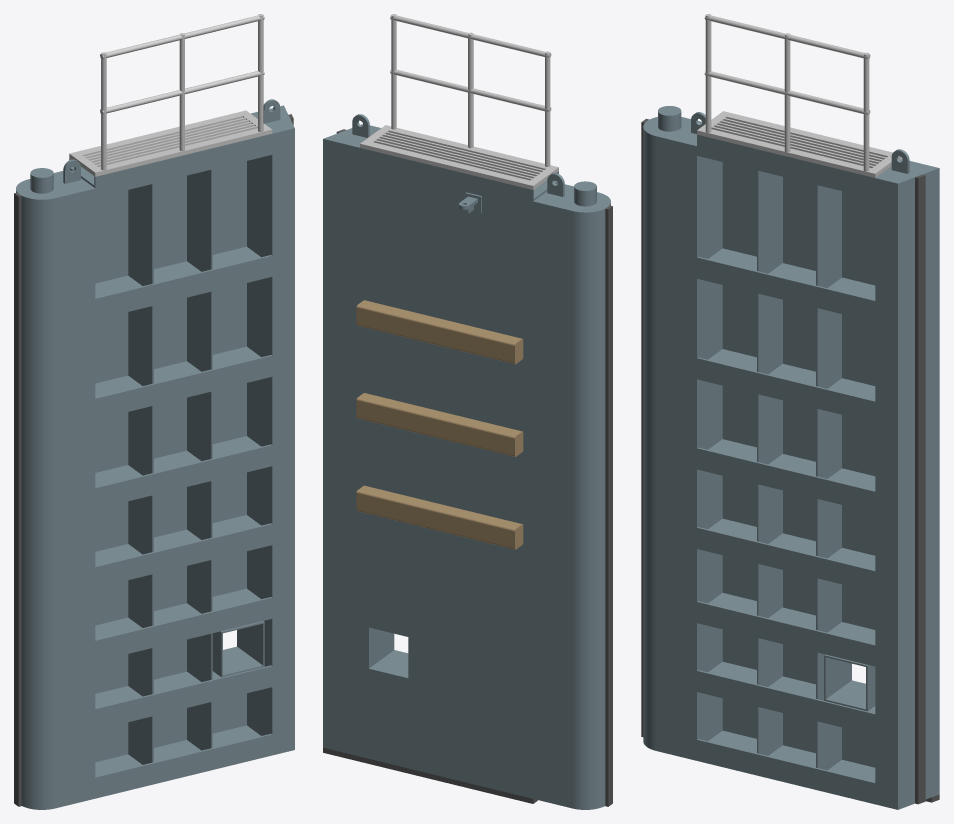
File: step_10.glb
The picture shows the model from 3 angles, left to right: view 1: azimuth 30°, elevation 25°; view 2: azimuth 150°, elevation 25°; view 3: azimuth 330°, elevation 25°; orthographic projection. The views are drawn at different scales.
Parts seen in each view (by area): view 1: part__heel post, part__skin plate, part__mitre post, part__stiffener 2, part__stiffener 1, part__girder 1, part__girder 6, part__girder 3, part__girder 5, part__girder 7, part__girder 4, part__girder 2 (+5 smaller); view 2: part__skin plate, part__heel post, part__mitre post, part__walkway grating, part__heel seal, part__oak fender 1, part__oak fender 3, part__oak fender 2, part__handrail, part__paddle culvert, part__cill seal; view 3: part__heel post, part__mitre post, part__skin plate, part__stiffener 1, part__stiffener 2, part__mitre seal, part__girder 5, part__girder 7, part__girder 1, part__girder 4, part__girder 6, part__girder 3 (+6 smaller).
Part boxes in pixels (x1,y1,x2,y2): part__heel post: (16, 168, 95, 809); part__skin plate: (69, 158, 246, 762); part__mitre post: (247, 105, 294, 755); part__stiffener 2: (187, 169, 212, 750); part__stiffener 1: (128, 183, 153, 764); part__girder 1: (95, 725, 272, 798); part__girder 6: (95, 346, 272, 419); part__girder 3: (95, 588, 272, 661); part__girder 5: (95, 436, 272, 509); part__girder 7: (95, 246, 272, 319); part__girder 4: (95, 515, 272, 587); part__girder 2: (95, 665, 272, 730); part__skin plate: (360, 148, 533, 798); part__heel post: (533, 181, 610, 809); part__mitre post: (323, 124, 380, 756); part__walkway grating: (360, 125, 558, 189); part__heel seal: (605, 205, 612, 806); part__oak fender 1: (356, 485, 523, 549); part__oak fender 3: (356, 300, 523, 364); part__oak fender 2: (356, 393, 523, 456); part__handrail: (390, 14, 551, 166); part__paddle culvert: (369, 628, 408, 677); part__cill seal: (323, 747, 537, 803); part__heel post: (643, 106, 722, 760); part__mitre post: (875, 159, 939, 809); part__skin plate: (722, 162, 875, 767); part__stiffener 1: (757, 170, 782, 755); part__stiffener 2: (816, 185, 841, 770); part__mitre seal: (915, 174, 925, 804); part__girder 5: (697, 439, 875, 512); part__girder 7: (697, 248, 875, 321); part__girder 1: (697, 730, 875, 804); part__girder 4: (697, 518, 875, 592); part__girder 6: (697, 349, 875, 422); part__girder 3: (697, 593, 875, 666).
Bounding box in the file's own units: 2790 × 7100 × 670.
